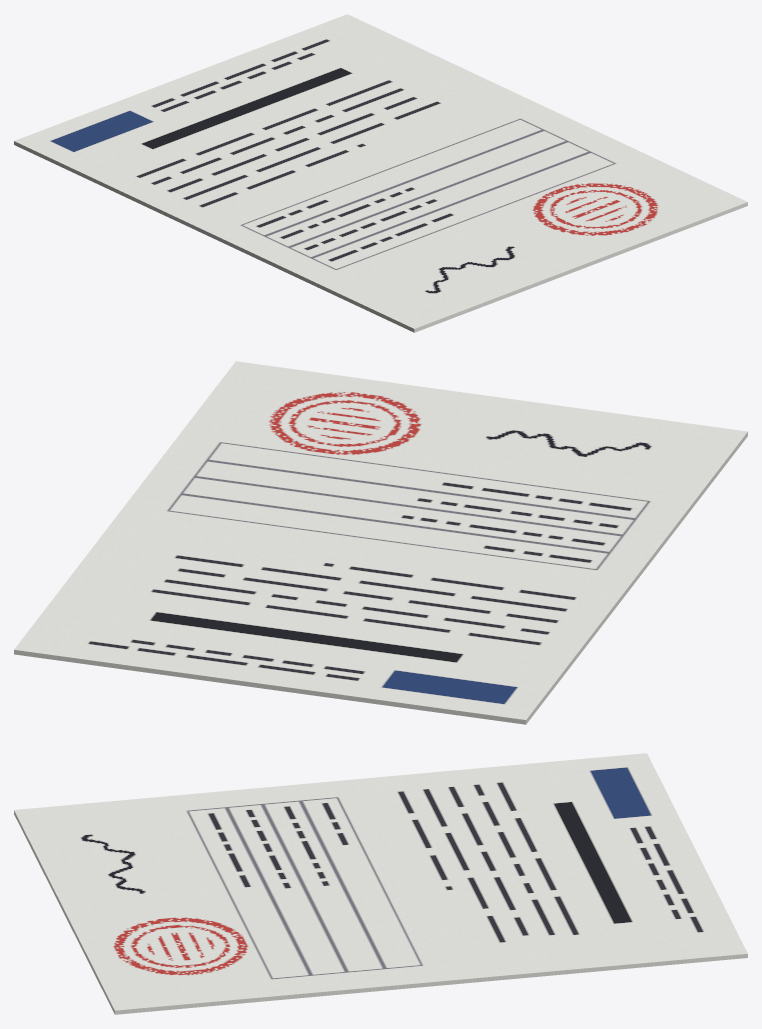
File: escena.casa.certificado_deudor.fbx
The picture shows the model from 3 angles, top to bottom: view 1: azimuth 30°, elevation 25°; view 2: azimuth 150°, elevation 25°; view 3: azimuth 270°, elevation 25°; orthographic projection. The views are drawn at different scales.
Visible parts, largest first — view 1: Certificado de deudor; view 2: Certificado de deudor; view 3: Certificado de deudor.
Part boxes in pixels (bbox=[...]): Certificado de deudor: bbox=[14, 14, 747, 332]; Certificado de deudor: bbox=[14, 361, 747, 724]; Certificado de deudor: bbox=[14, 753, 747, 1014].
Bounding box in the file's own units: 0.2636 × 0.002 × 0.3175.
1 material, 1 textured.
